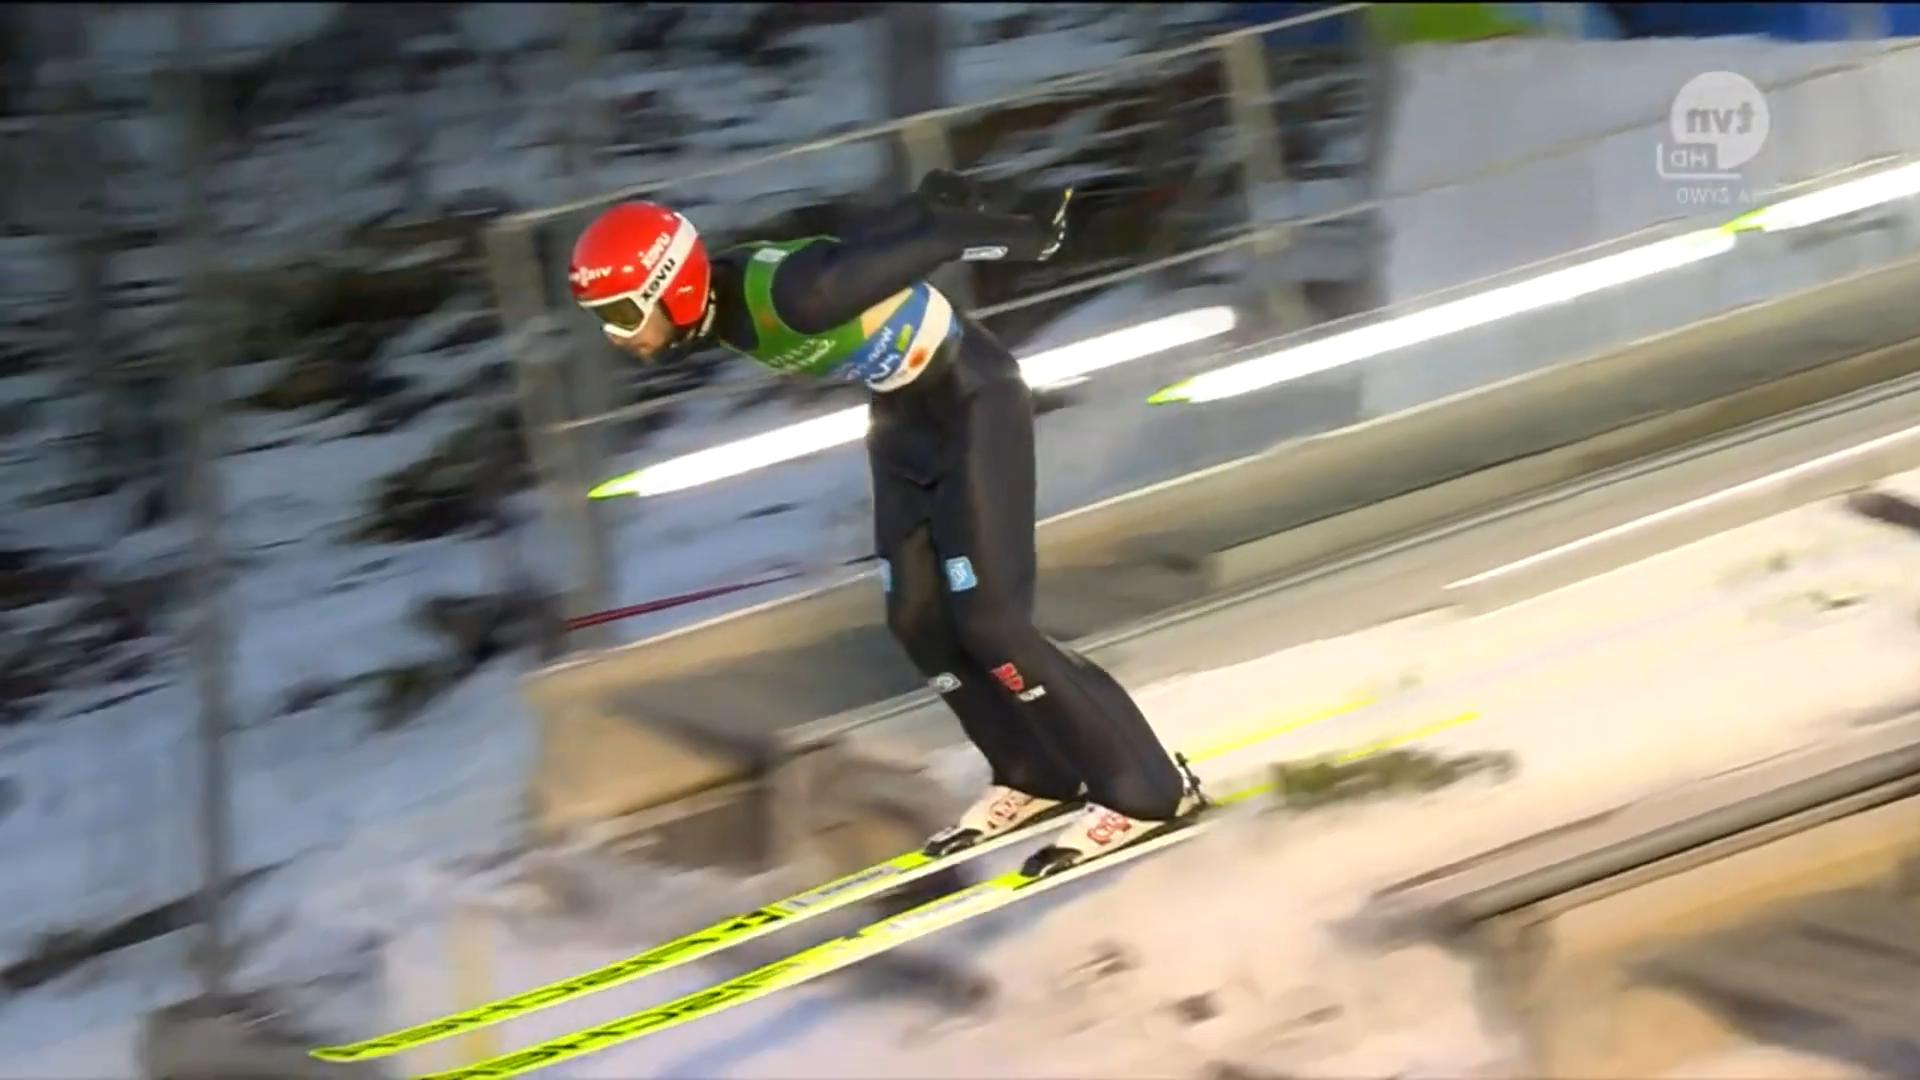prog: (607, 694, 903, 795)
